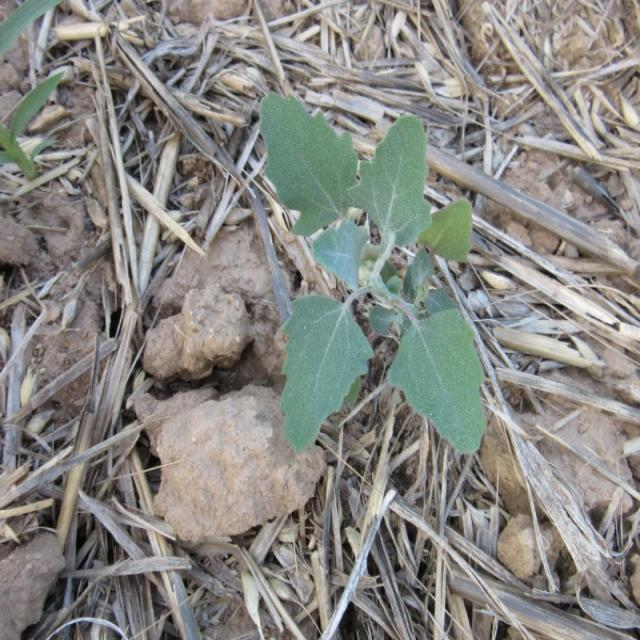ca: (259, 92, 484, 464)
